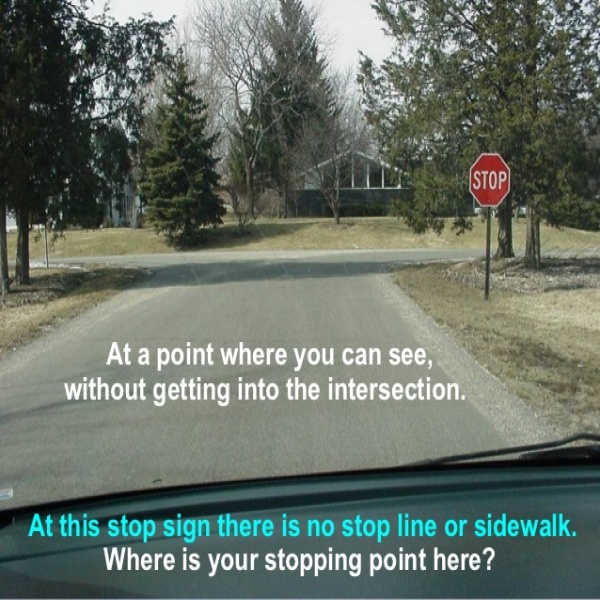stop: (470, 154, 515, 210)
